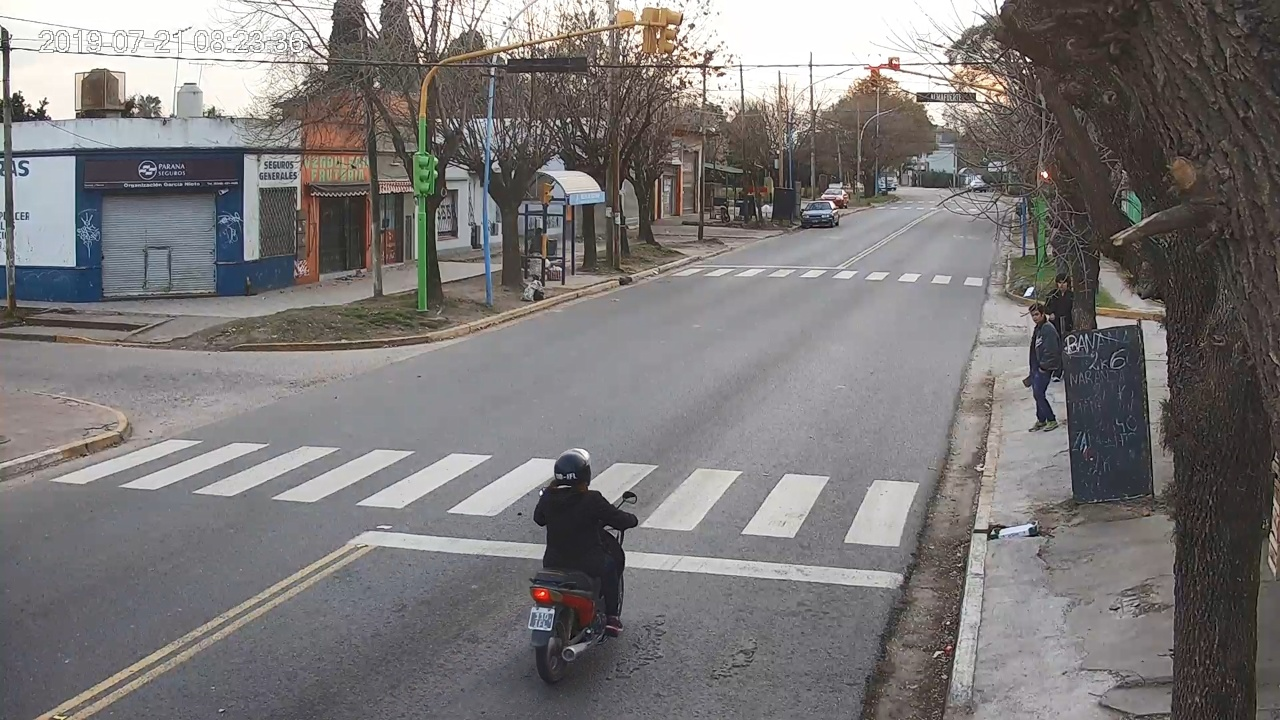motorcycle: (528, 490, 638, 683)
traffic light: (868, 54, 881, 86)
